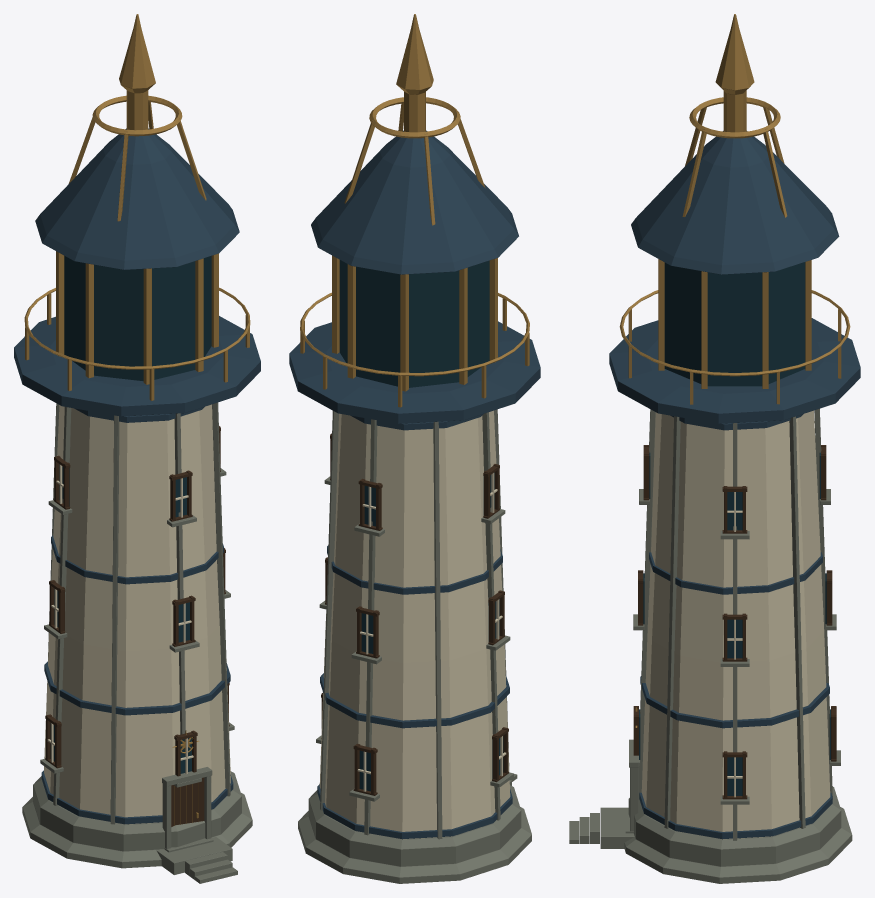
The model's file is StormSpire_LOD0.fbx.
The picture shows the model from 3 angles, left to right: view 1: azimuth 30°, elevation 25°; view 2: azimuth 150°, elevation 25°; view 3: azimuth 270°, elevation 25°; orthographic projection.
Parts seen in each view (by area): view 1: StormSpire_Body; view 2: StormSpire_Body; view 3: StormSpire_Body.
Part boxes in pixels (box(x1,y1,x2,y2)): StormSpire_Body: box(14, 14, 260, 883); StormSpire_Body: box(289, 14, 540, 883); StormSpire_Body: box(569, 14, 860, 883).
Bounding box in the file's own units: 8.72 × 31.4 × 10.12.
